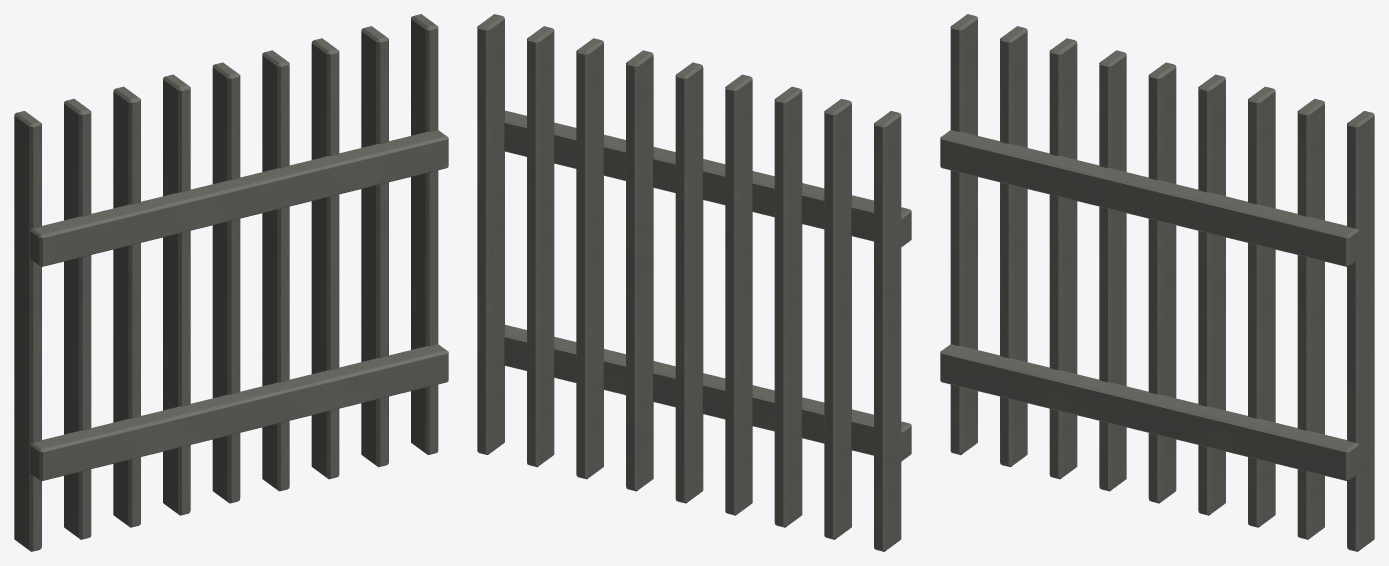
File: WarrensC_WVC042_MournerCacheGateSkin_Mars_SM.fbx
The picture shows the model from 3 angles, left to right: view 1: azimuth 30°, elevation 25°; view 2: azimuth 150°, elevation 25°; view 3: azimuth 330°, elevation 25°; orthographic projection.
Visible parts, largest first — view 1: WarrensC_WVC042_MournerCacheGateSkin_Mars_SM.001; view 2: WarrensC_WVC042_MournerCacheGateSkin_Mars_SM.001; view 3: WarrensC_WVC042_MournerCacheGateSkin_Mars_SM.001.
Boxes of the visible parts, x1,y1,x2,y2 form: WarrensC_WVC042_MournerCacheGateSkin_Mars_SM.001: (14, 14, 448, 551); WarrensC_WVC042_MournerCacheGateSkin_Mars_SM.001: (477, 14, 911, 551); WarrensC_WVC042_MournerCacheGateSkin_Mars_SM.001: (940, 14, 1374, 551).
Bounding box in the file's own units: 250 × 30 × 250.
